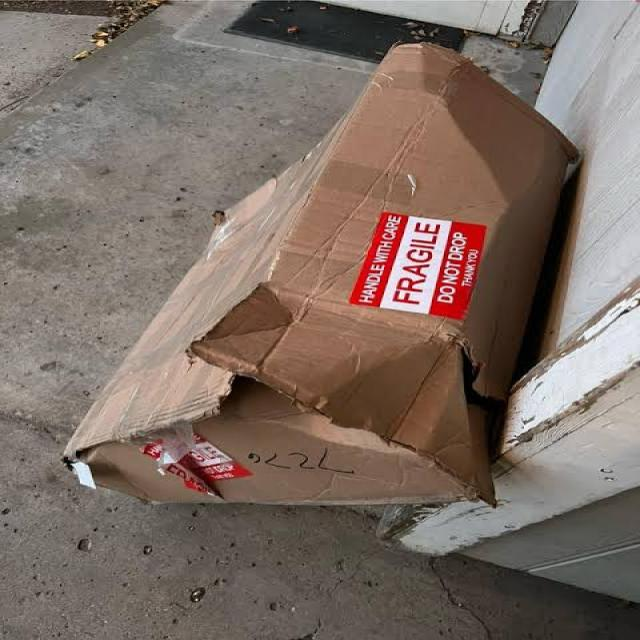carton_box: (61, 38, 594, 527)
fragile_label: (352, 198, 508, 324)
package_damage: (63, 291, 530, 518)
